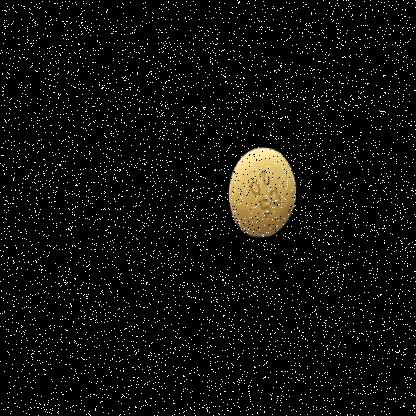rabeparzole20: (218, 129, 306, 257)
